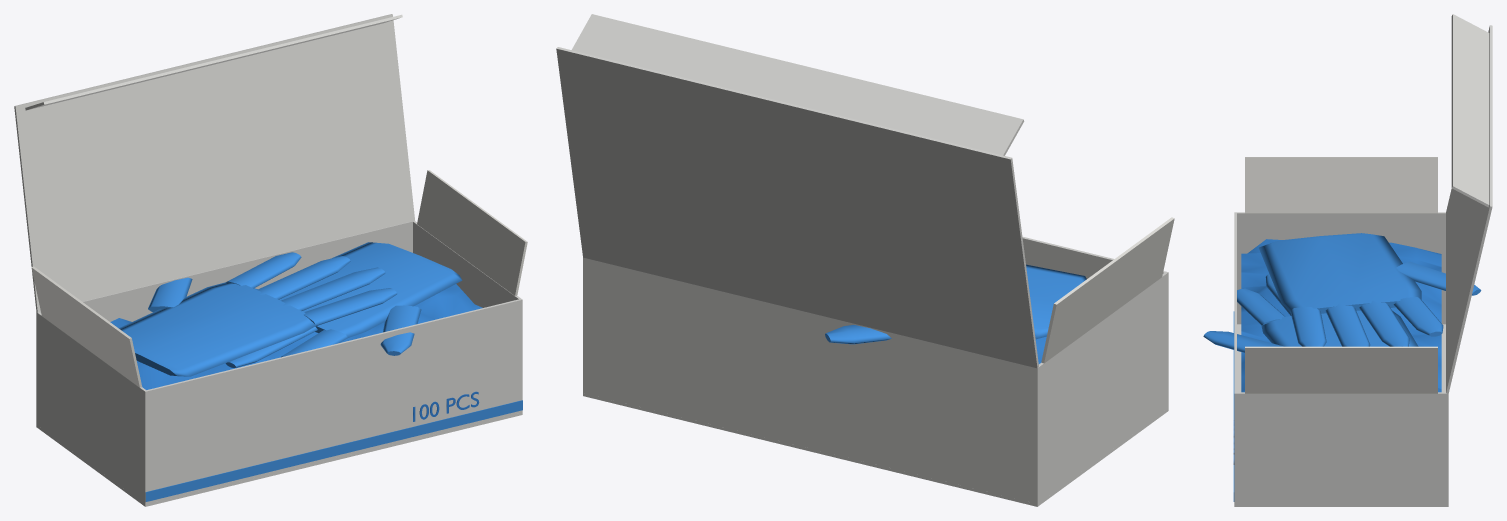
File: item-64.glb
The picture shows the model from 3 angles, left to right: view 1: azimuth 30°, elevation 25°; view 2: azimuth 150°, elevation 25°; view 3: azimuth 270°, elevation 25°; orthographic projection. The views are drawn at different scales.
Parts seen in each view (by area): view 1: lid, front, left, palm, dust.001, palm.001, back, dust, band, heap, right, tuck (+9 smaller); view 2: lid, back, tuck, left, dust, front, palm, bottom, thumb; view 3: right, dust, palm, dust.001, tuck, left, lid, heap, palm.001, finger.002, finger.001, bottom (+7 smaller).
Boxes of the visible parts, x1,y1,x2,y2 form: lid: (14,14,414,312); front: (144,299,520,506); left: (37,312,147,504); palm: (119,282,316,376); dust.001: (417,170,527,295); palm.001: (279,242,462,338); back: (36,221,412,427); dust: (31,266,142,387); band: (145,400,522,501); heap: (110,284,482,389); right: (413,221,522,412); tuck: (25,14,402,110); lid: (556,47,1038,368); back: (586,258,1038,506); tuck: (571,14,1024,155); left: (1034,272,1167,503); dust: (1041,217,1174,363); front: (1022,236,1168,408); palm: (1026,264,1086,339); bottom: (583,393,1168,506); thumb: (825,325,891,344); right: (1235,392,1446,504); dust: (1245,157,1437,213); palm: (1259,233,1421,313); dust.001: (1245,346,1437,393); tuck: (1451,14,1489,207); left: (1236,212,1445,324); lid: (1446,25,1492,393); heap: (1241,239,1441,392); palm.001: (1261,310,1418,346); finger.002: (1359,300,1409,346); finger.001: (1325,303,1370,346); bottom: (1234,324,1448,506).
Bounding box in the file's own units: 0.2533 × 0.1952 × 0.1618.
